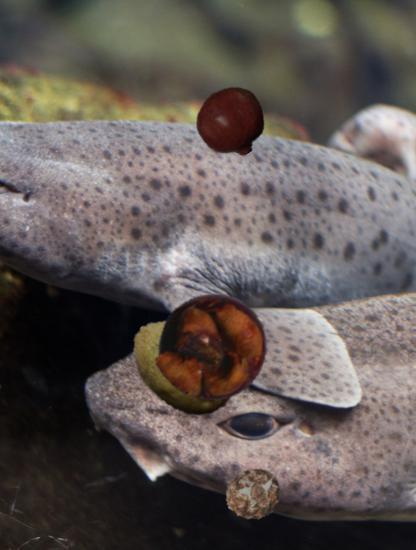Mangostan: (155, 291, 270, 406)
Papaya: (126, 308, 242, 424)
Pineapple: (225, 466, 282, 523)
Pomegranate: (197, 87, 268, 158)
